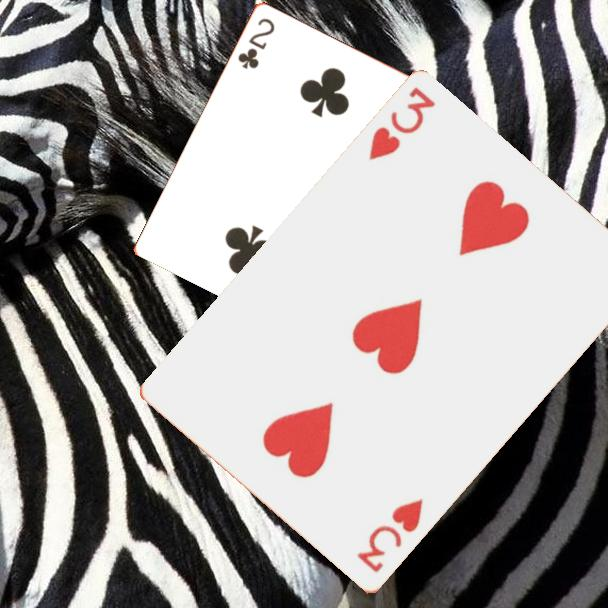c02: (234, 14, 277, 72)
h03: (365, 83, 439, 164), (353, 495, 426, 576)
